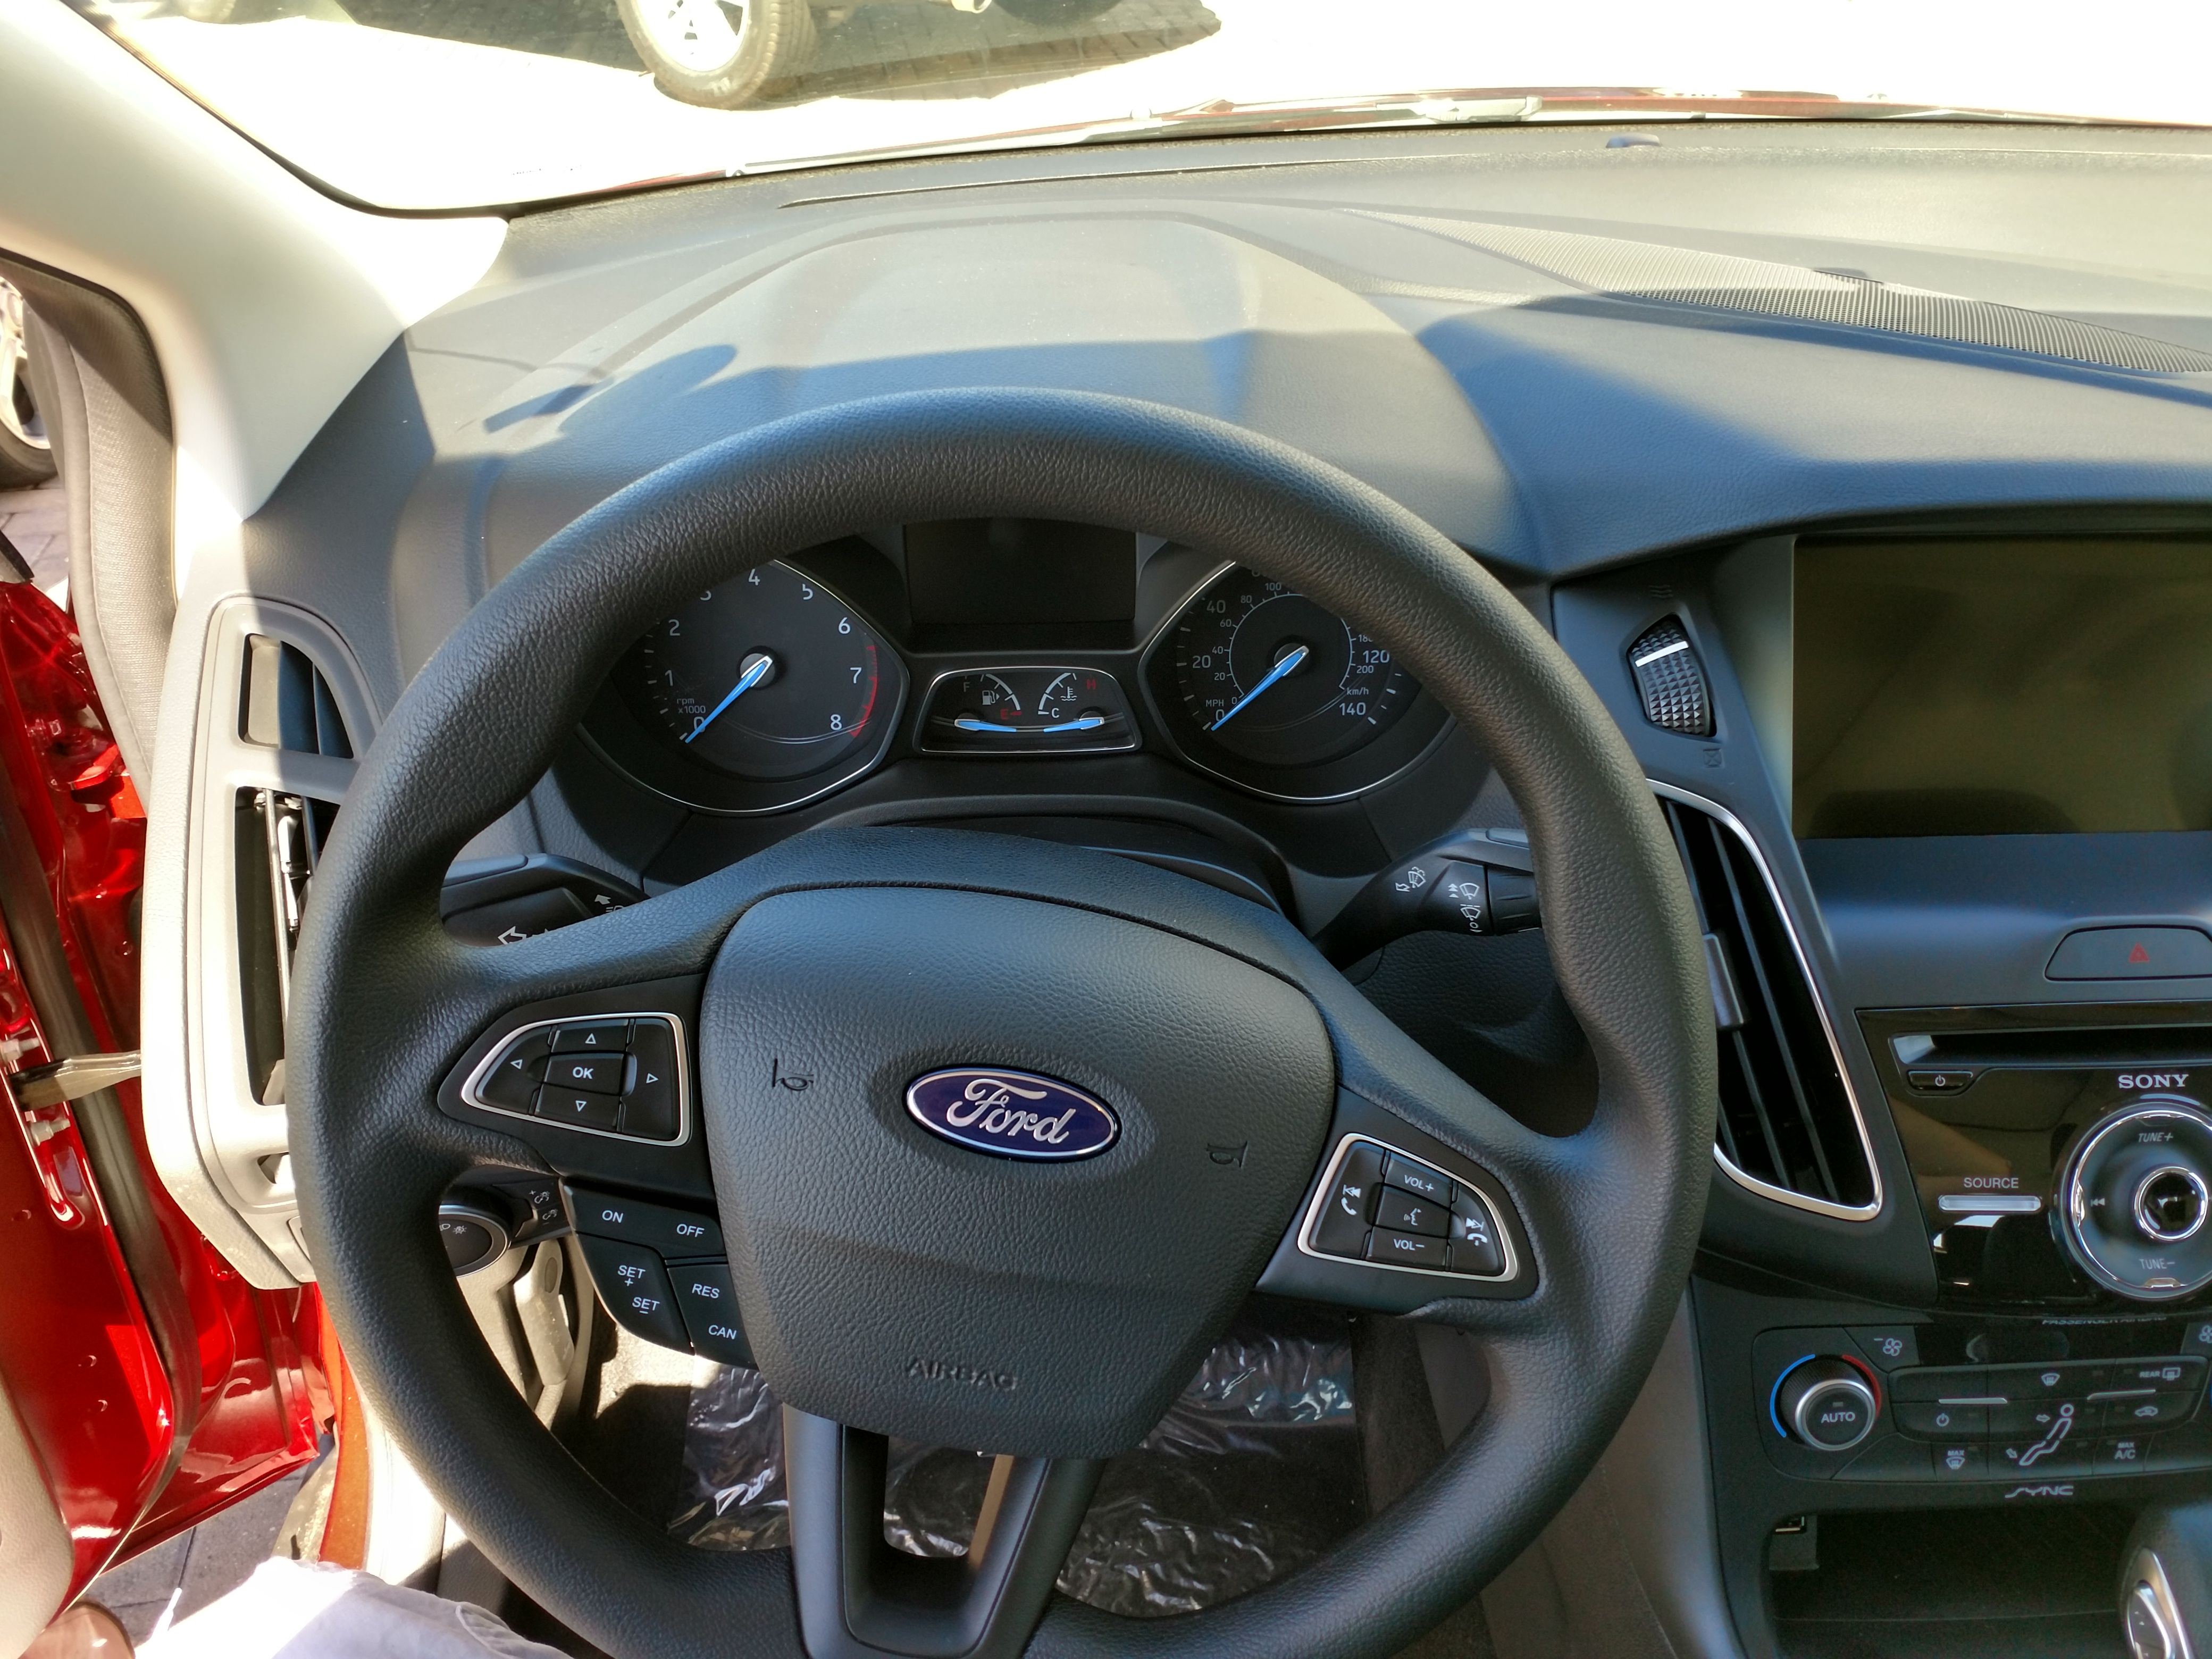Ford: (880, 1044, 1139, 1195)
